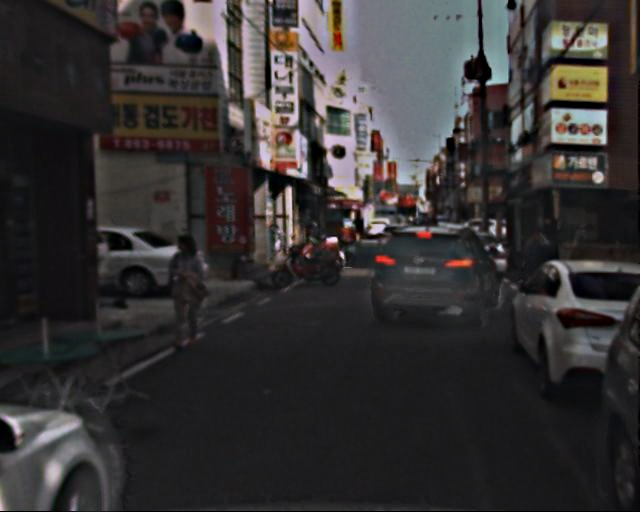person: (163, 232, 216, 349), (525, 224, 564, 311)
